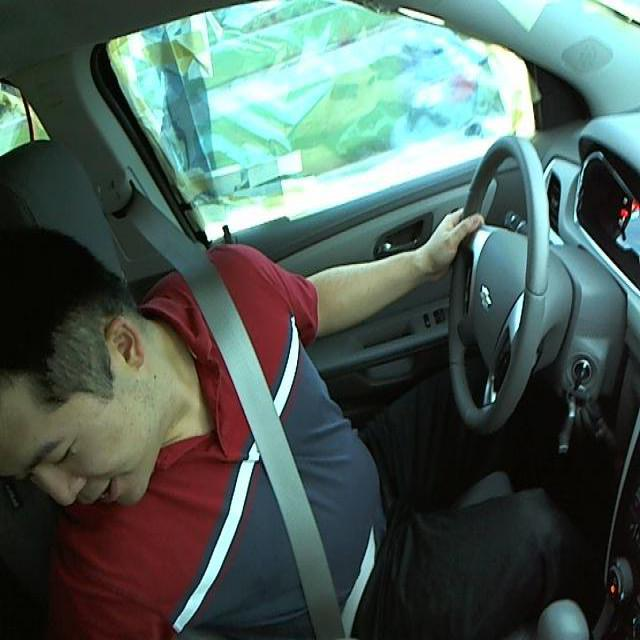seatbelt: (144, 235, 361, 636)
